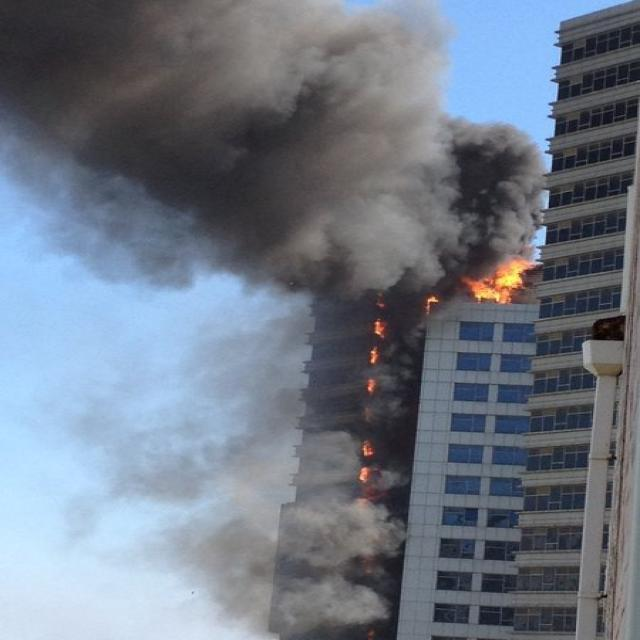Fire: (457, 259, 539, 306)
Smoke: (1, 1, 538, 290), (95, 314, 390, 628)
